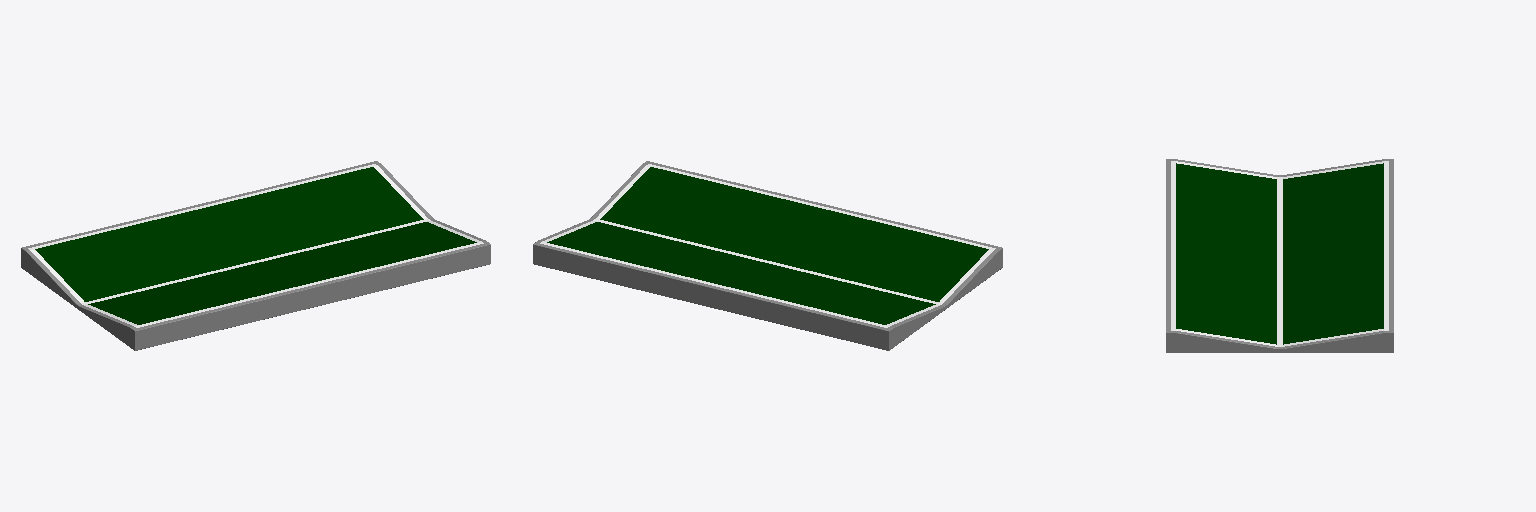
Rendered from ttb.obj.
3 renders of one model, left to right at view 1: azimuth 30°, elevation 25°; view 2: azimuth 150°, elevation 25°; view 3: azimuth 270°, elevation 25°, orthographic.
Parts seen in each view (by area): view 1: ttb; view 2: ttb; view 3: ttb.
Part boxes in pixels (left/top/right/bottom): ttb: left=21, top=161, right=490, bottom=350; ttb: left=533, top=161, right=1002, bottom=350; ttb: left=1166, top=159, right=1393, bottom=352.
Size of the model in its own units: 2.74 by 0.1479 by 1.52.